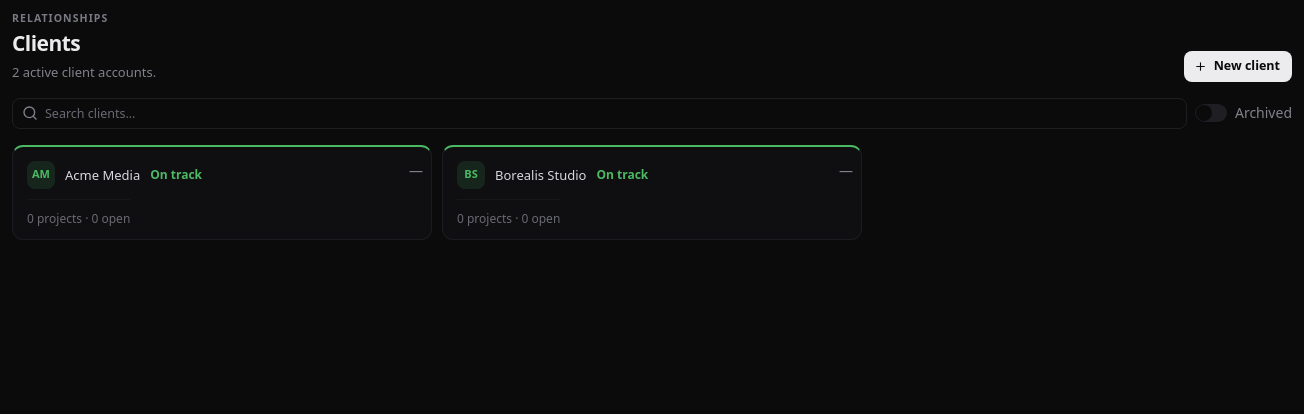
it: ClientsPage search › brings the client list back when the search is cleared
Type "zzzz-no-client" into the field labelled "Search clients…" at [599, 113], box [12,98,1187,129]
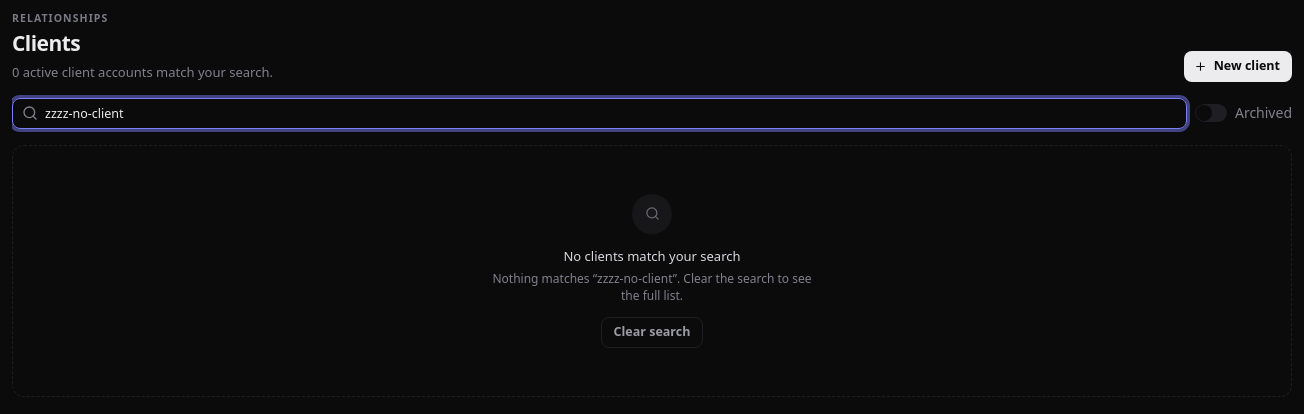
Click the button "Clear search" at [652, 332], box [601,317,704,348]
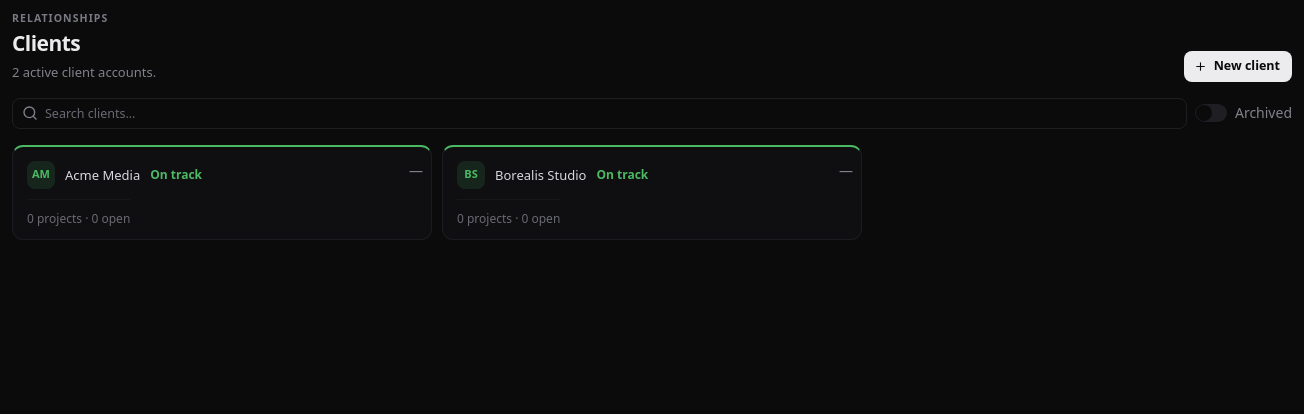
Check: the field labelled "Search clients…" is empty, box [12,98,1187,129]
Check: the text "Acme Media" is shown, box [65,165,140,185]
Check: the text "Borealis Studio" is shown, box [495,165,586,185]
